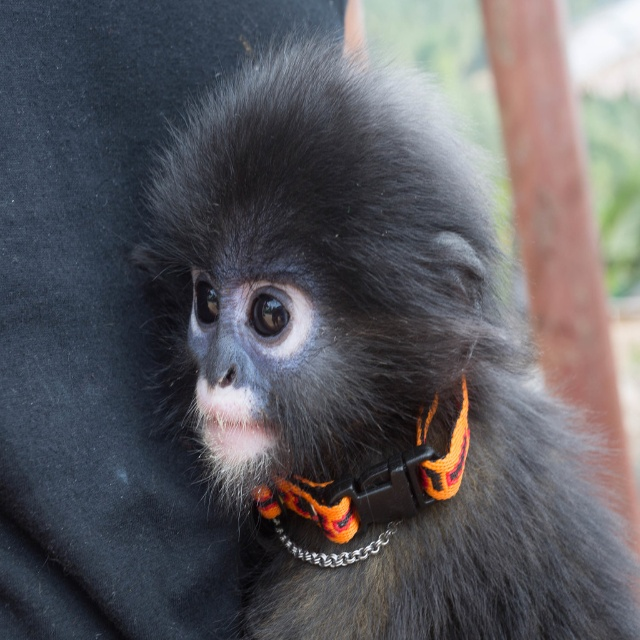Monkey: (102, 12, 640, 640)
